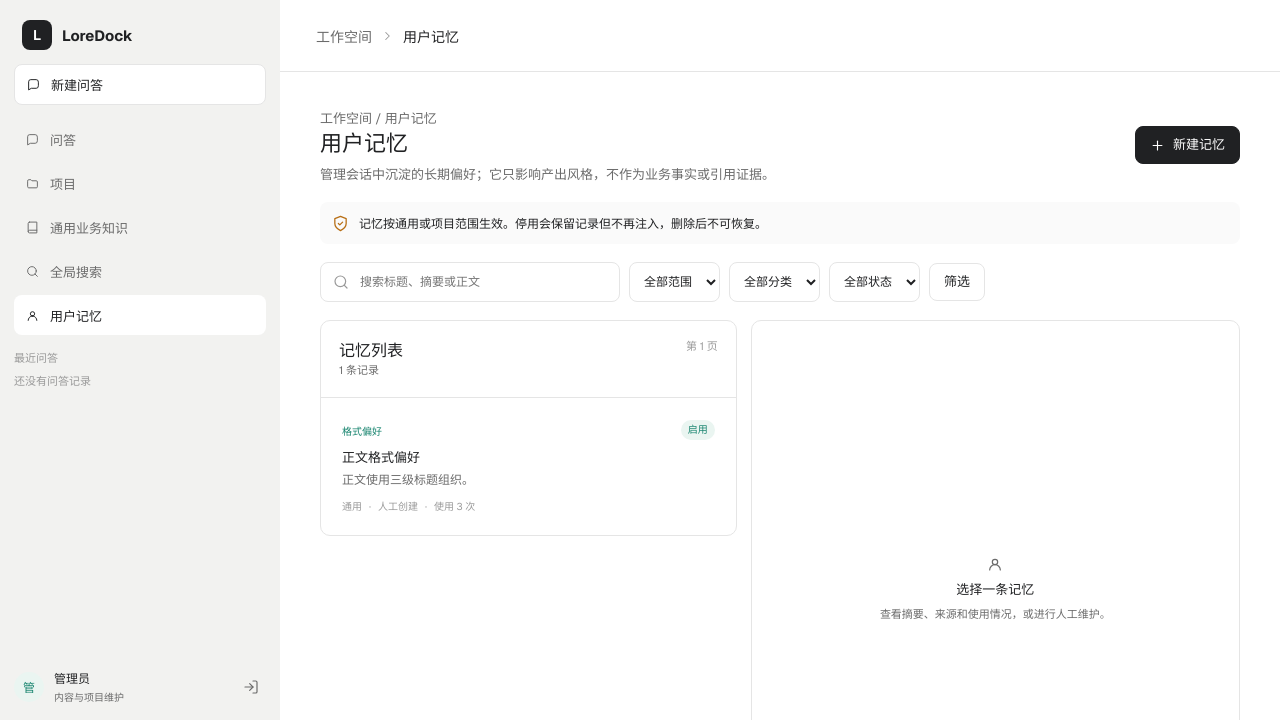
MemoryManagementView › renders revision timestamps from the history API
This screenshot has width=1280, height=720.
Click the button with test id "memory-card-7": click(362, 431) [329,406,728,527]
(page scrolled)
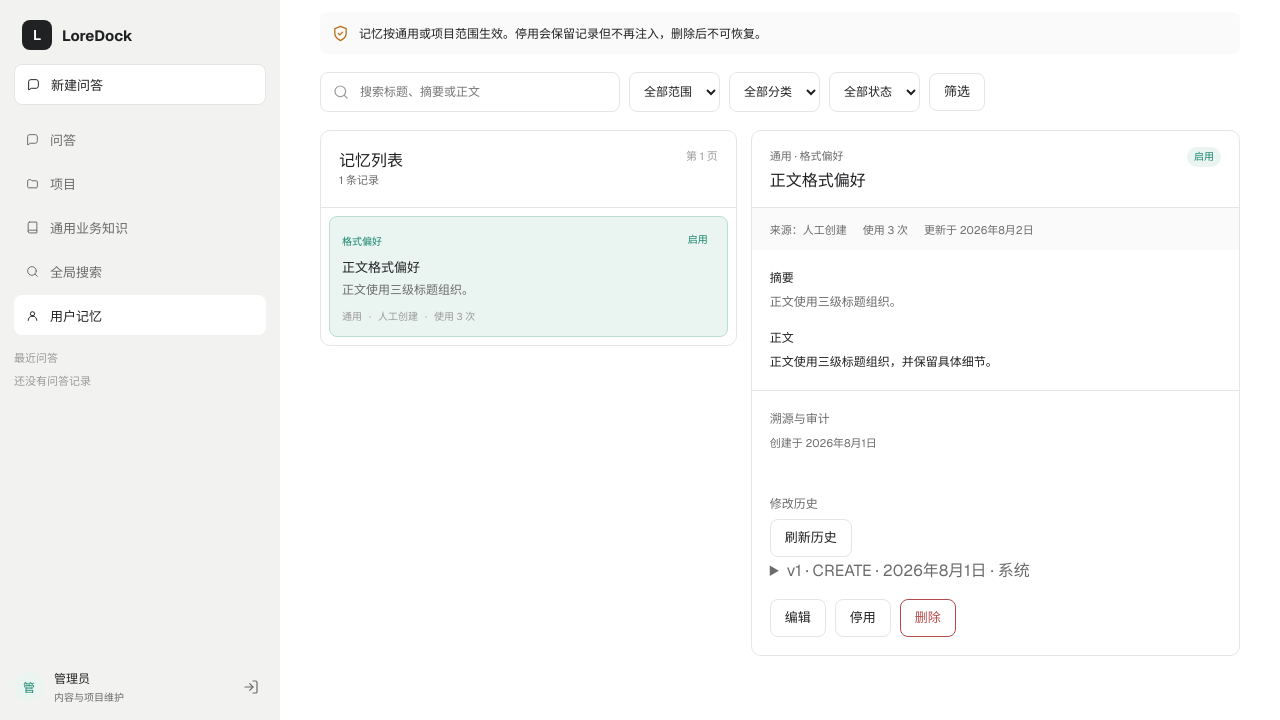
Check: the element with class "memory-history" shows "2026年8月1日", box [787,560,1030,581]
